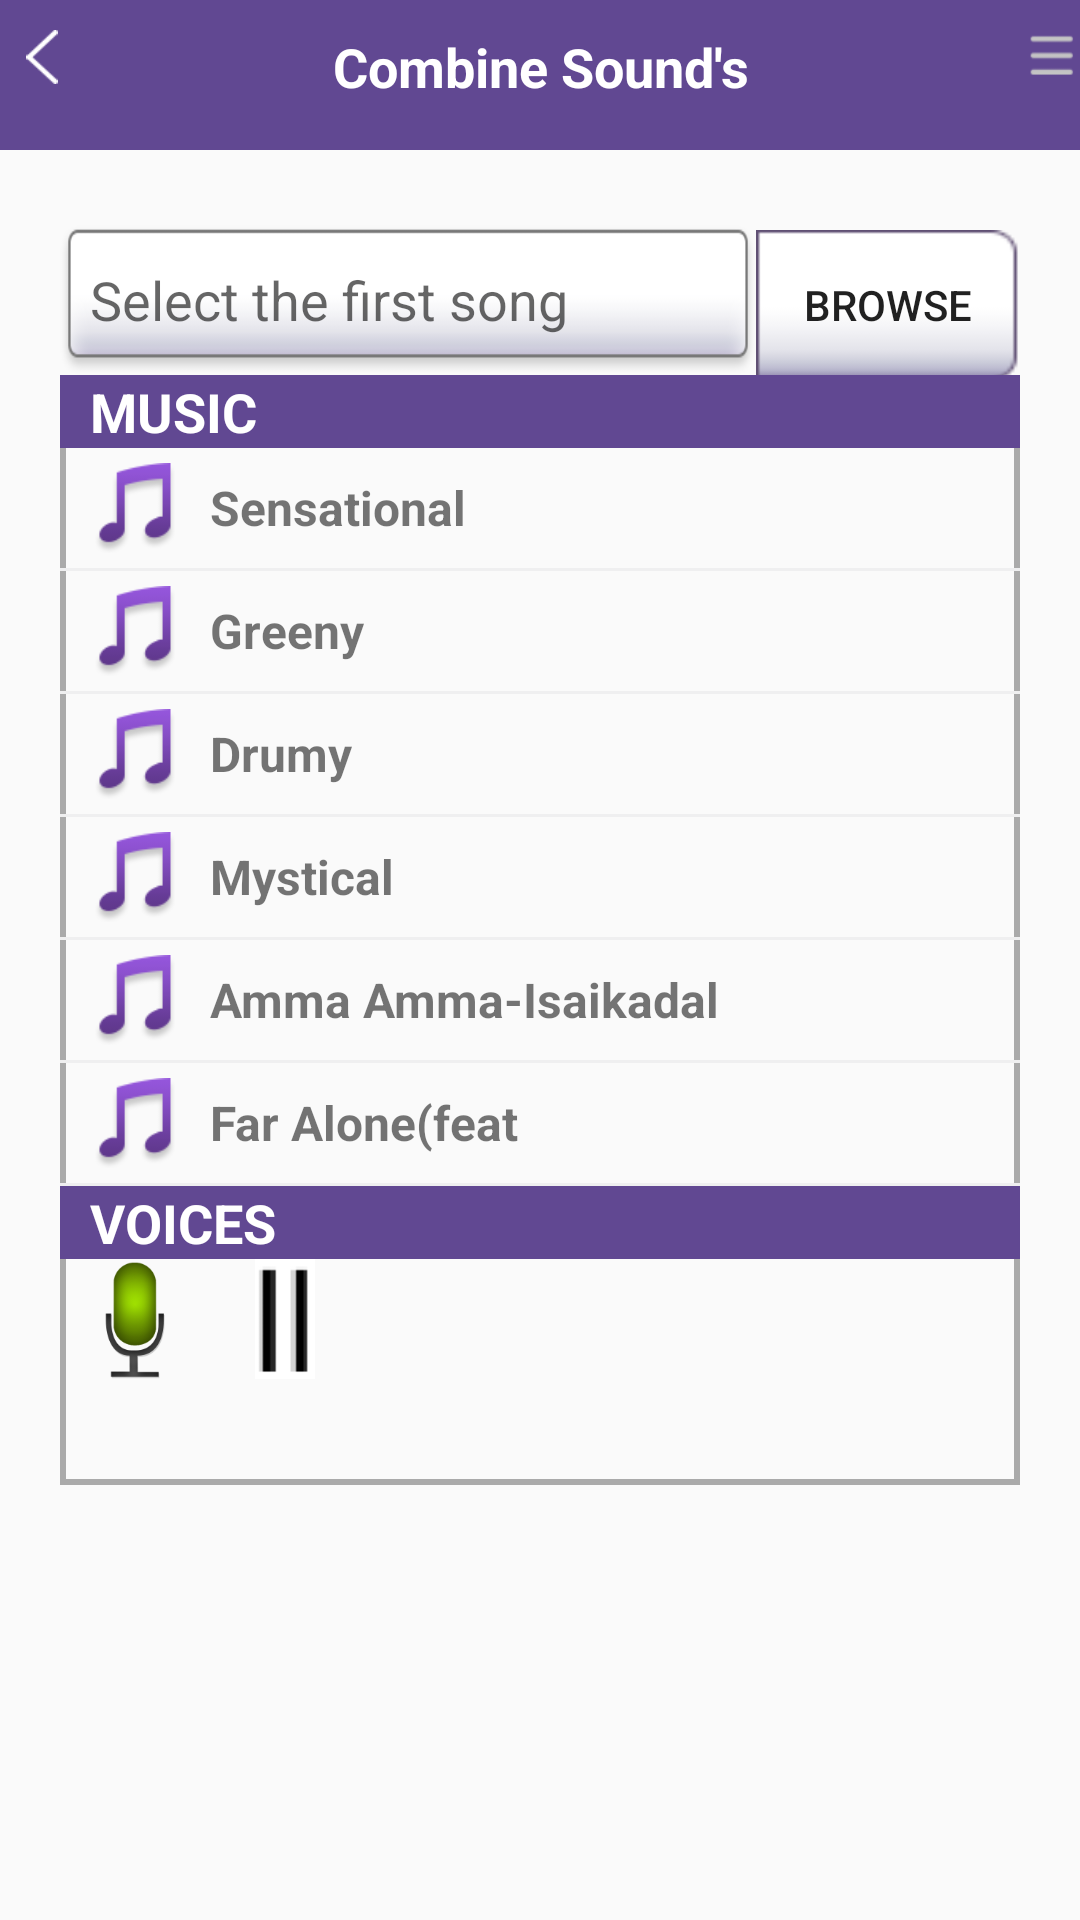

Icon click points for this 1080w x 1920h phone screenshot, format (x,y):
back arrow: (42,57)
pause: (283,1320)
record: (135,1320)
three bars: (1051,55)
